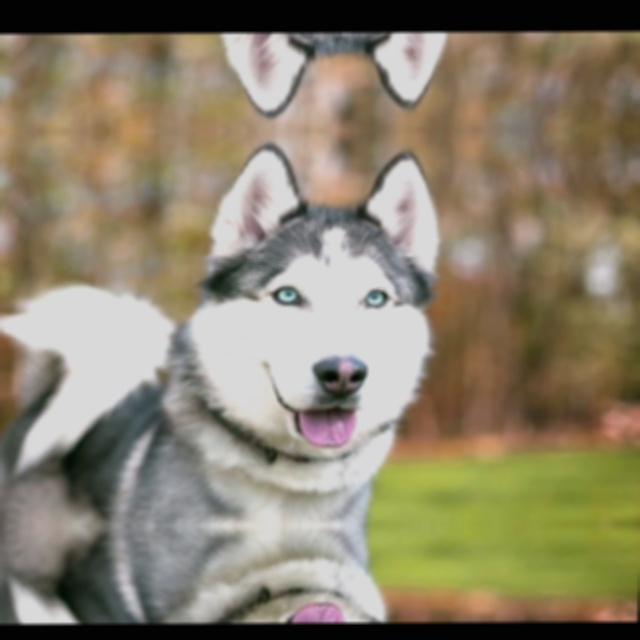dog: (11, 142, 459, 526), (6, 524, 440, 624), (30, 32, 464, 118)
